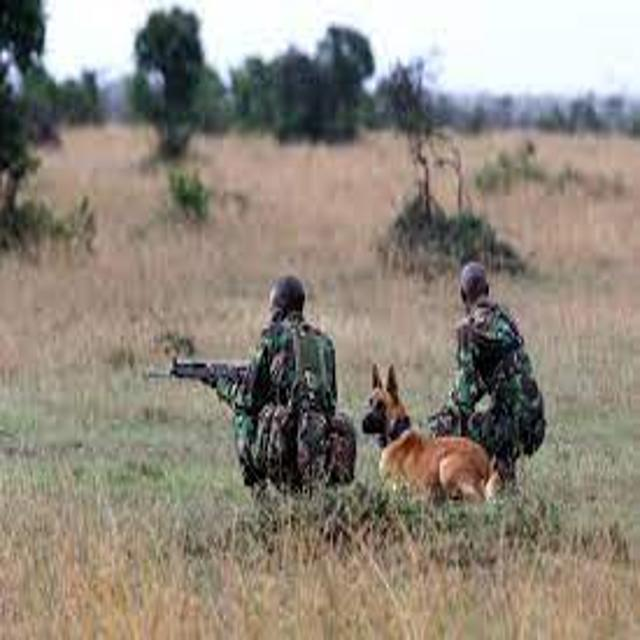dog: (337, 348, 515, 543)
gun: (152, 334, 290, 418)
ranger: (155, 255, 381, 525), (402, 247, 592, 519)
